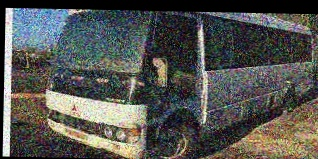bus: (43, 9, 315, 159)
